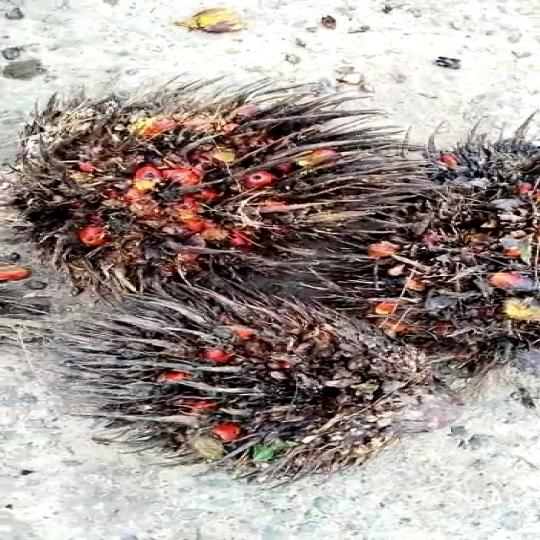terlalu masak: (0, 86, 397, 268), (92, 298, 433, 472), (300, 130, 540, 360)
